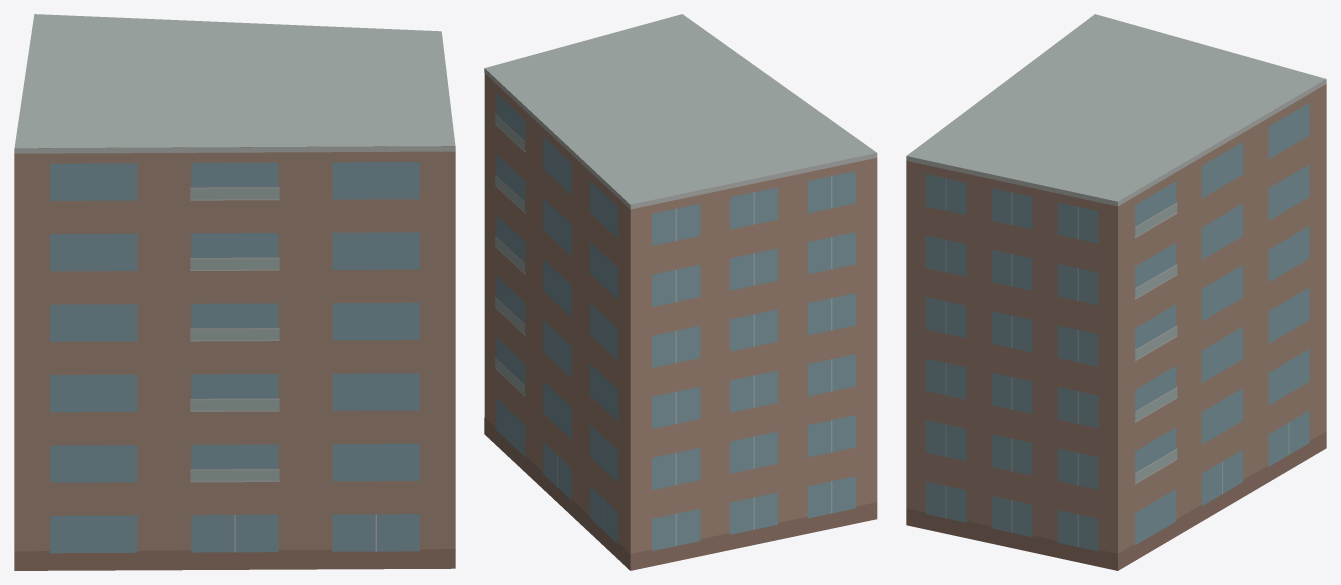
Rendered from survey-upis-32480468.glb.
The picture shows the model from 3 angles, left to right: view 1: azimuth 30°, elevation 25°; view 2: azimuth 150°, elevation 25°; view 3: azimuth 270°, elevation 25°; orthographic projection. The views are drawn at different scales.
Visible parts, largest first — view 1: survey-upis-32480468.tmp; view 2: survey-upis-32480468.tmp; view 3: survey-upis-32480468.tmp.
Part boxes in pixels (left/top/right/bottom): survey-upis-32480468.tmp: left=14, top=14, right=455, bottom=570; survey-upis-32480468.tmp: left=484, top=14, right=877, bottom=570; survey-upis-32480468.tmp: left=906, top=14, right=1326, bottom=570.
Bounding box in the file's own units: 20.51 × 18.8 × 19.41.
